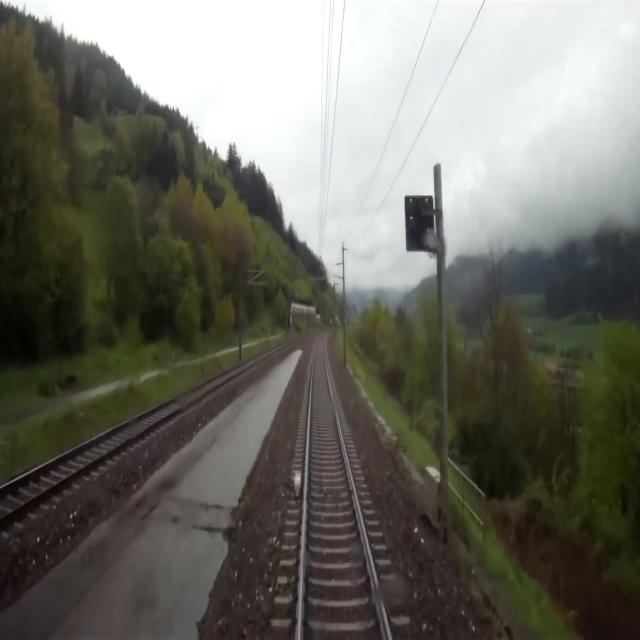rail-track: (0, 351, 270, 513), (301, 334, 389, 639)
